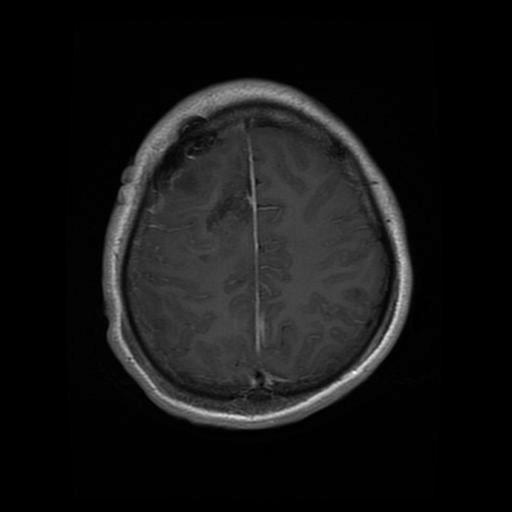Tumour-Glioma: (157, 145, 226, 211)
